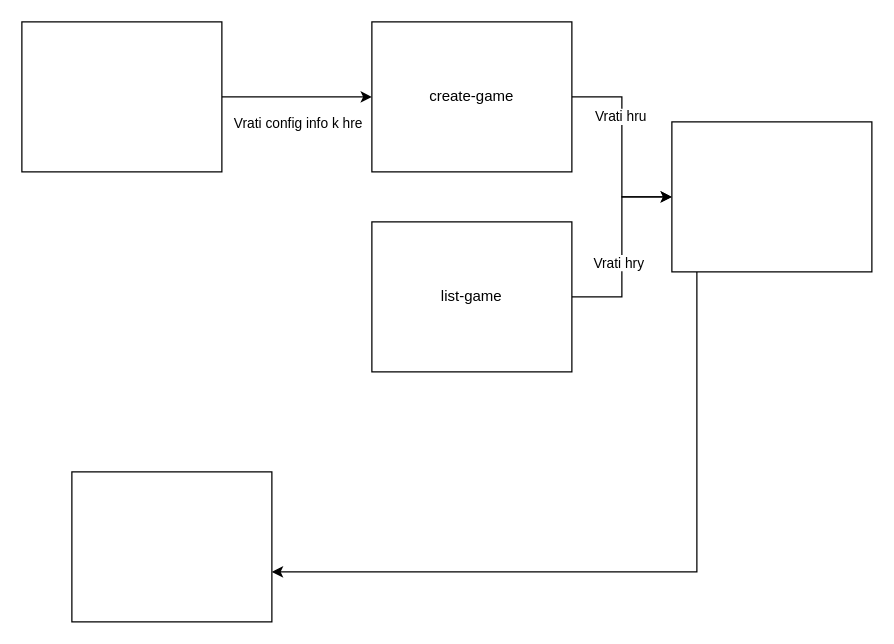
The diagram is 894 pixels wide and 644 high, and some of its shapes have lost their labels. The centre of each missing label's shape, as x and y in pixels:
"game-setting" belongs at pixel 121 96.
"join-game meno hry meno hraca" belongs at pixel 771 196.
